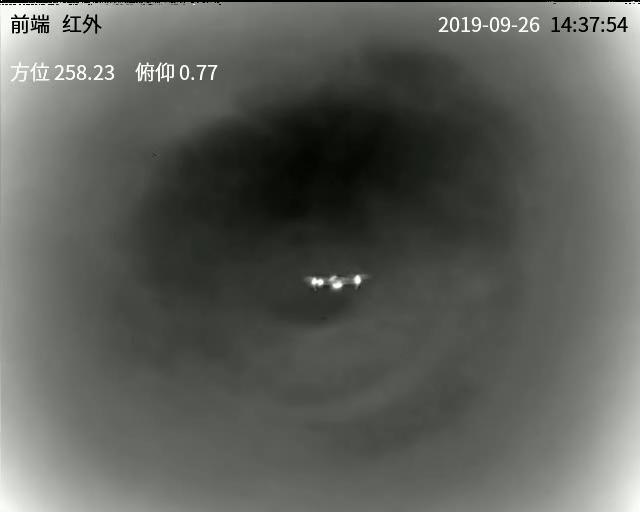uav: (304, 267, 370, 292)
